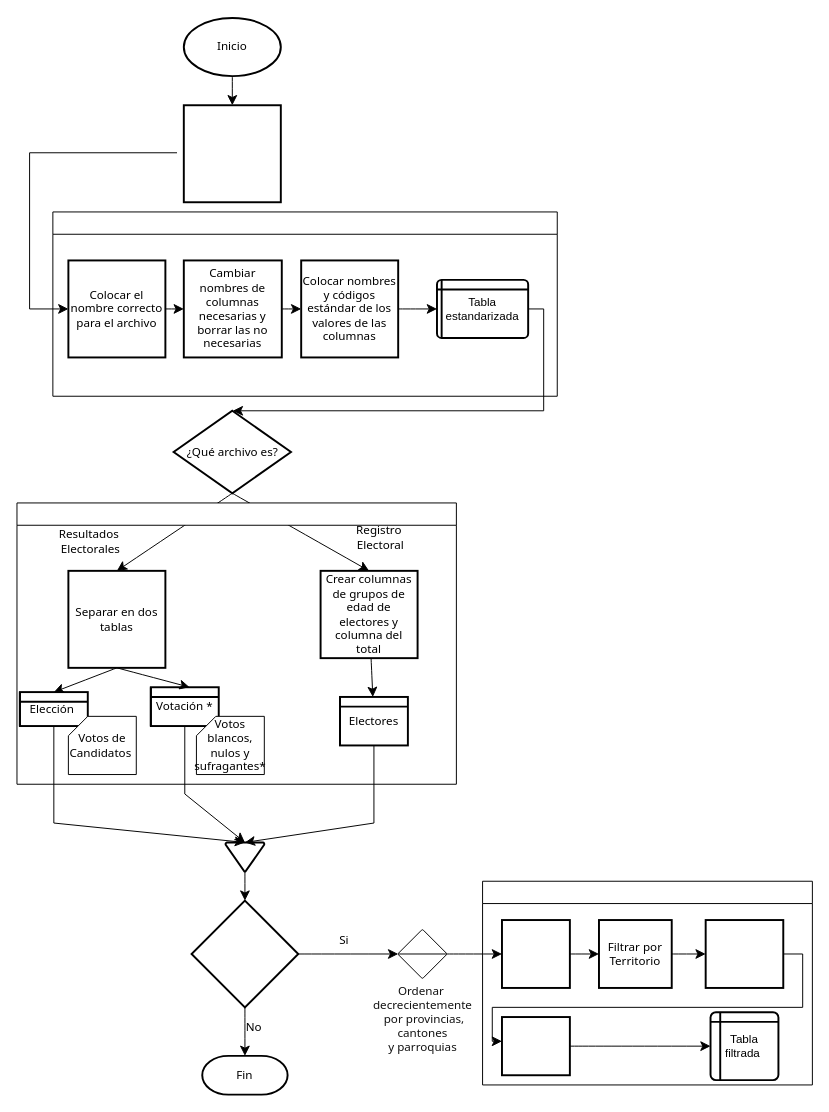
Some shapes in this 829 by 1112 pixel diagram are drawn without their labels. Here are the shapes that lost their labels. From the top down, the box of each, then its label:
(182, 104, 281, 203): Cargar y convertir los archivos en .csv
(52, 211, 557, 396): Estandarización
(16, 502, 456, 784): Reestructuración
(190, 899, 299, 1008): ¿Estandarizar códigos geográficos?
(501, 919, 570, 988): Filtrar por Dignidad
(704, 919, 784, 988): Agrupar por Territorio
(482, 880, 812, 1085): Extraccion
(501, 1016, 570, 1076): Agrupar por sexo
